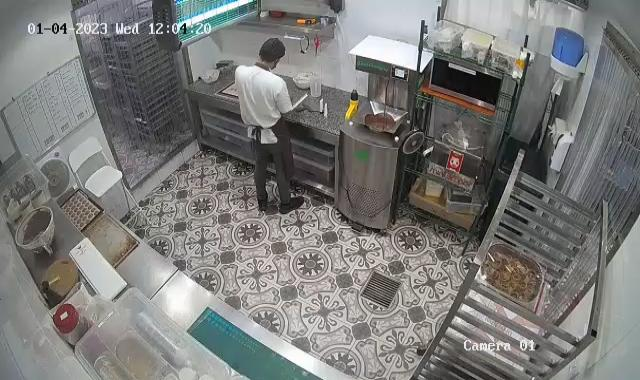no_hairnet: (254, 38, 288, 64)
